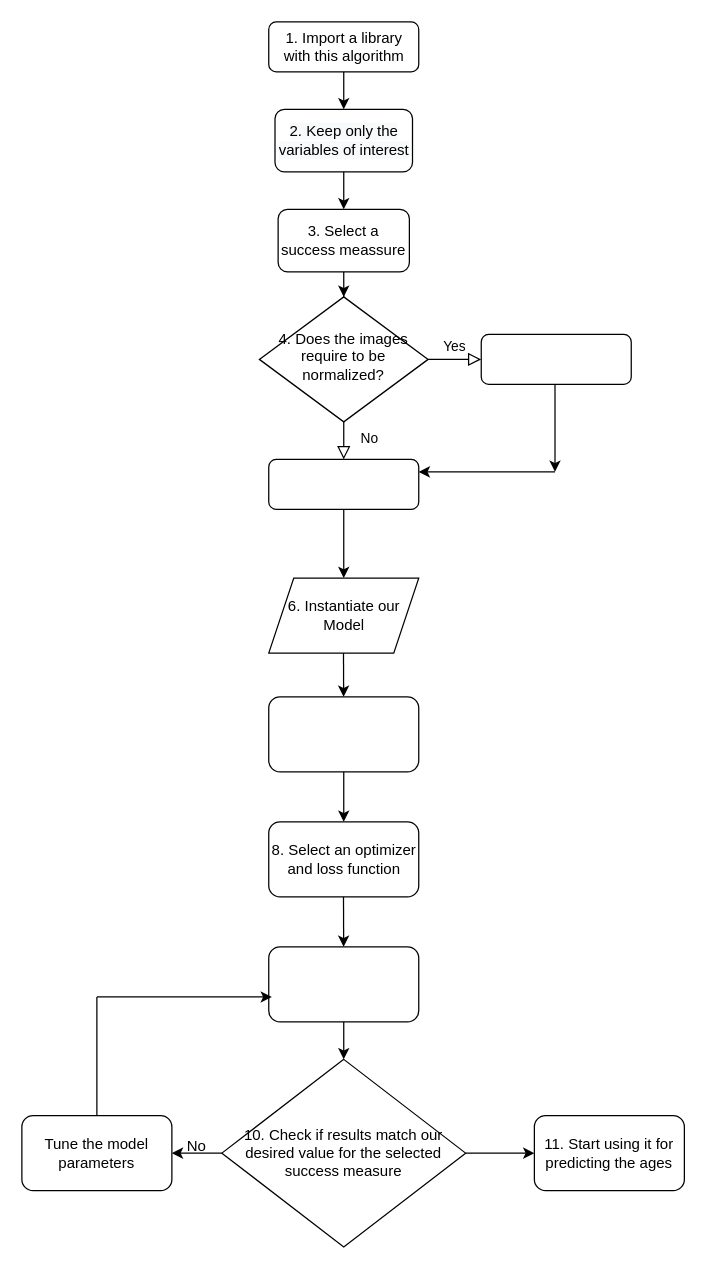
Image size: 706x1269. Some labels were removed from this diagram. Here are the shapes that lost their labels. From the top down, the centre of each, then its label:
the point at 555,358: Normalize it
the point at 343,483: 5. Split the data into a training and testing dataset
the point at 343,734: 7. Add its respective layers
the point at 343,984: 9. Train the CNN
